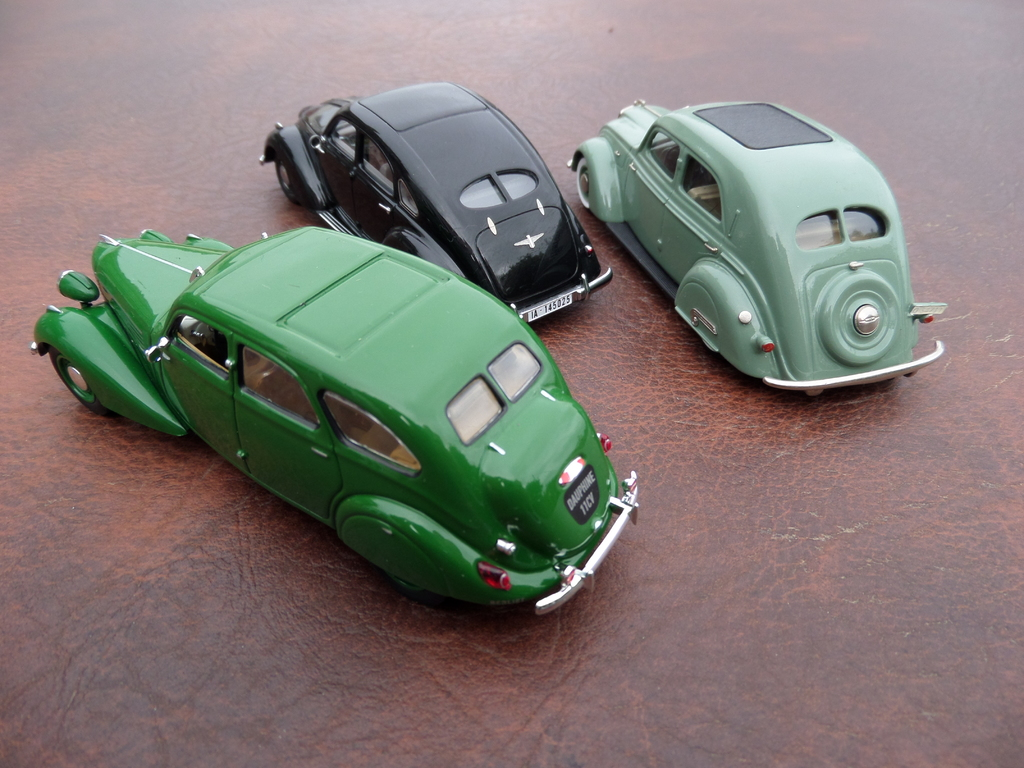mobil: (34, 232, 635, 645), (576, 95, 959, 395)
